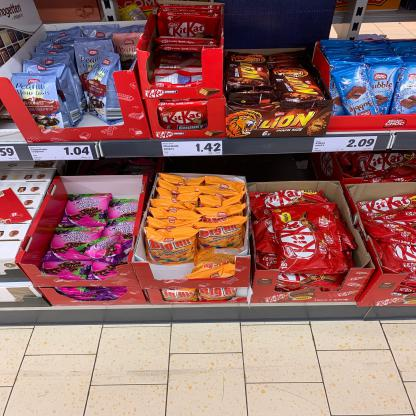prtg: (313, 137, 378, 153), (29, 147, 95, 162), (162, 142, 223, 158), (1, 147, 21, 162)
